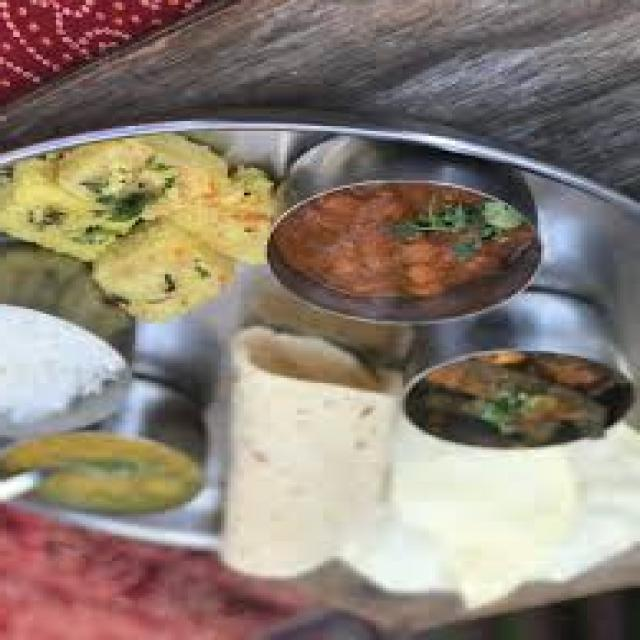dal: (14, 422, 210, 519)
papad: (213, 367, 397, 572)
rice: (3, 288, 121, 440)
